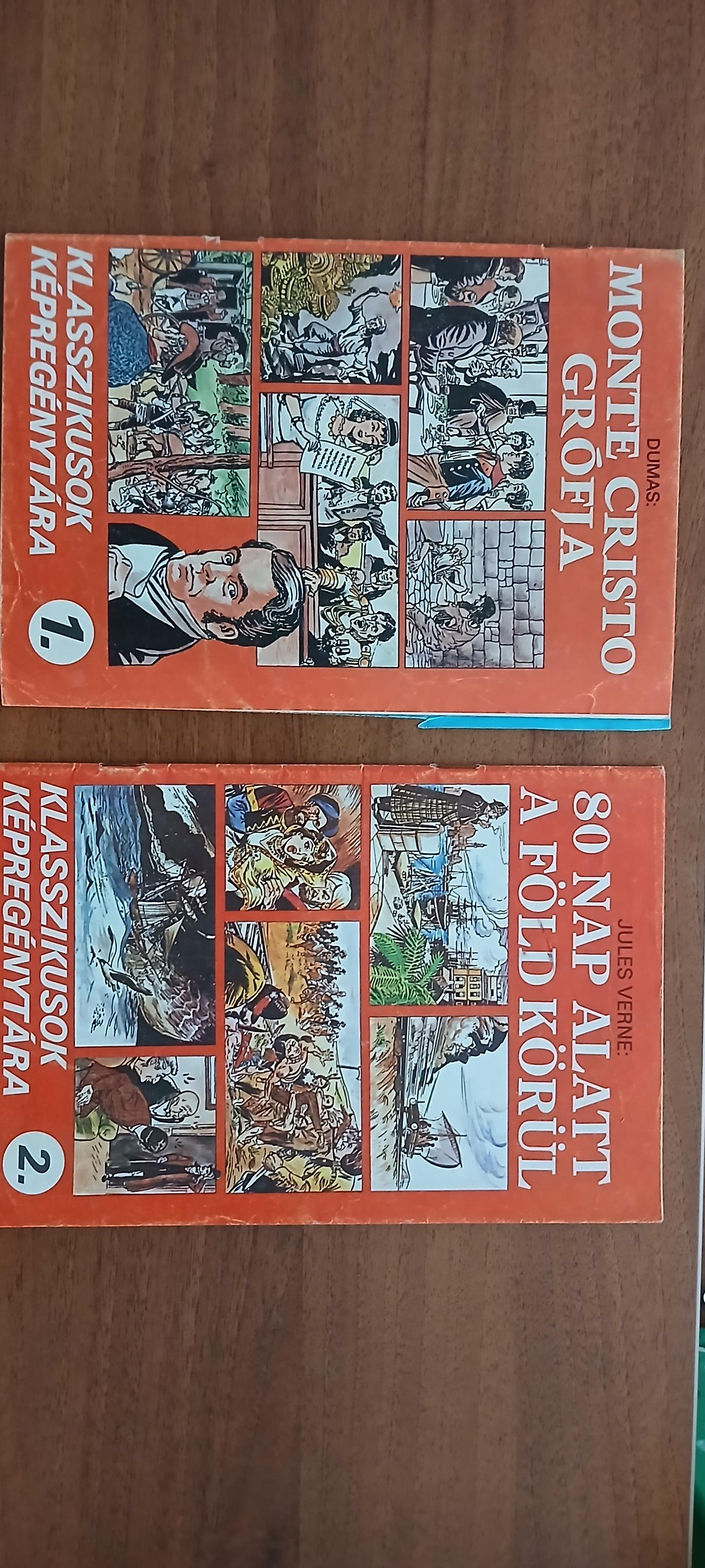comic: (0, 229, 685, 729), (0, 764, 663, 1225)
